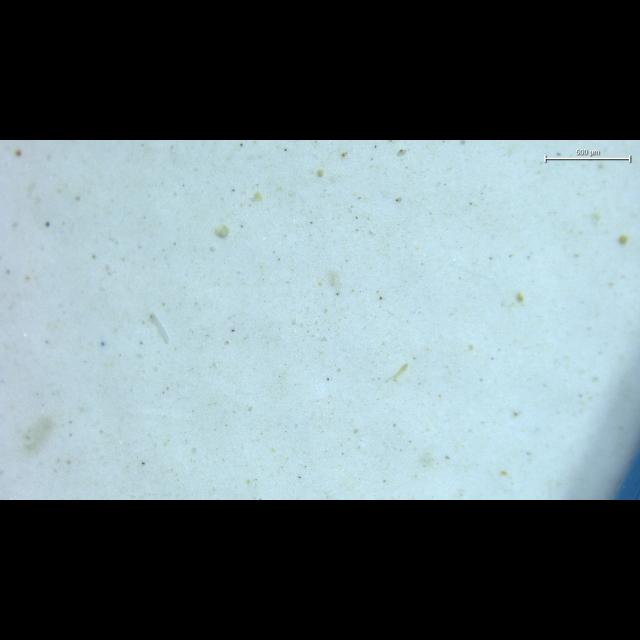Fibre: (150, 313, 169, 343), (393, 363, 408, 380)
Fragment: (214, 224, 229, 238)
